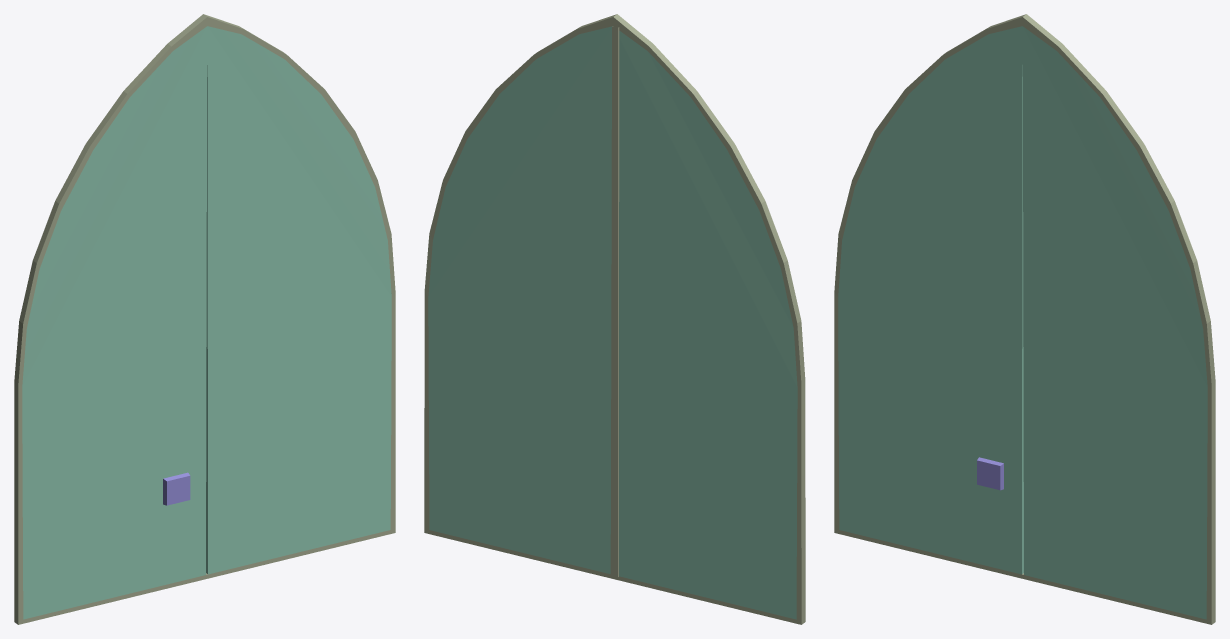
Rendered from Cathedral_door1.FBX.
3 views of the same model, side by side, from view 1: azimuth 30°, elevation 25°; view 2: azimuth 150°, elevation 25°; view 3: azimuth 330°, elevation 25° (orthographic).
Parts seen in each view (by area): view 1: Door_leaf2, Door_leaf1, Door_frame1, Door_lock; view 2: Door_leaf1, Door_leaf2, Door_frame1; view 3: Door_leaf2, Door_leaf1, Door_frame1, Door_lock.
Part boxes in pixels (box(x1,y1,x2,y2)): Door_leaf2: box(206, 26, 391, 574); Door_leaf1: box(22, 26, 207, 619); Door_frame1: box(14, 14, 395, 624); Door_lock: box(163, 472, 190, 505); Door_leaf1: box(610, 26, 797, 619); Door_leaf2: box(428, 26, 612, 573); Door_frame1: box(424, 14, 805, 624); Door_leaf2: box(1022, 26, 1207, 619); Door_leaf1: box(838, 26, 1023, 574); Door_frame1: box(834, 14, 1215, 624); Door_lock: box(977, 457, 1003, 490).
Bounding box in the file's own units: 667 × 24.91 × 949.
